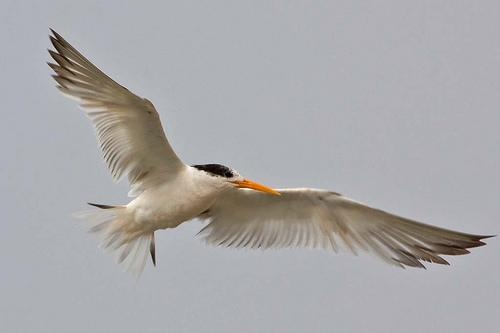bird: (39, 23, 496, 275)
